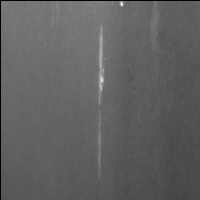scratches: (94, 24, 109, 177)
